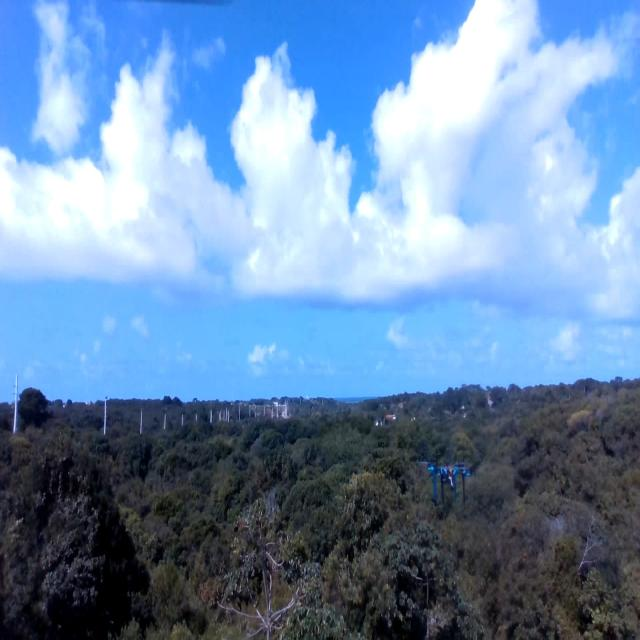-uav-: (420, 450, 476, 510)
